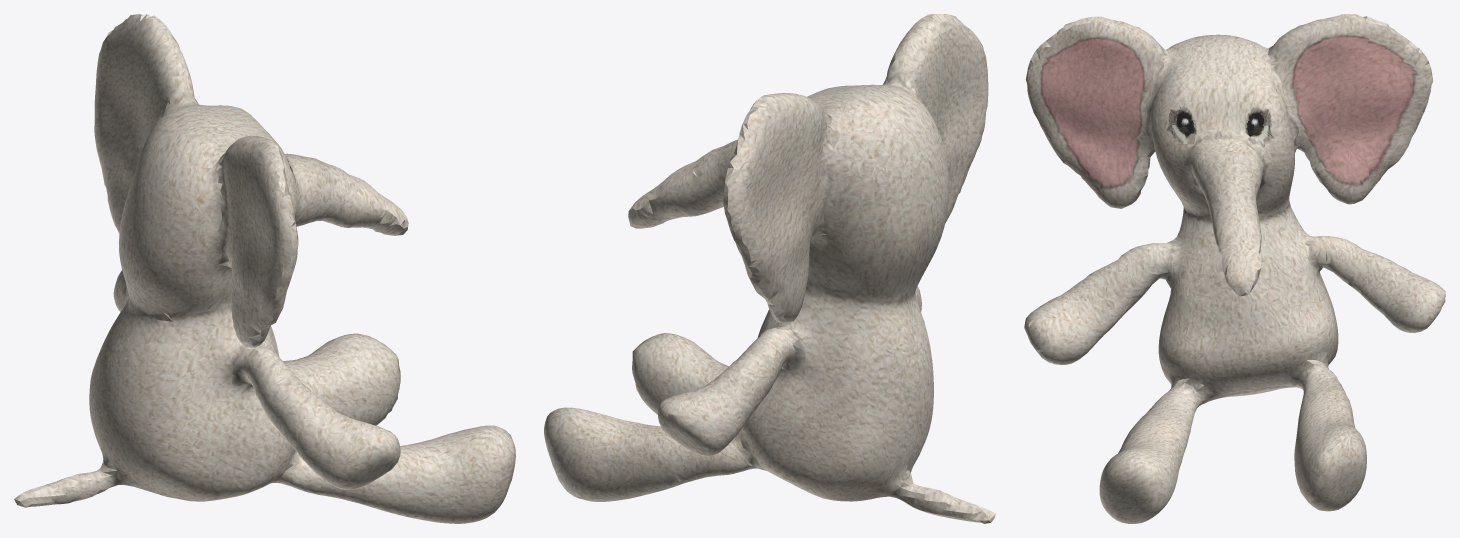
File: elephant_aug_5.obj
3 views of the same model, side by side, from view 1: azimuth 30°, elevation 25°; view 2: azimuth 150°, elevation 25°; view 3: azimuth 270°, elevation 25° (orthographic). The views are drawn at different scales.
Bounding box in the file's own units: 101 × 105 × 95.9.
Materials: 1 (1 with a texture image).
